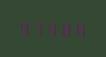eight: (60, 20, 73, 37), (74, 20, 87, 37)
nine: (46, 19, 59, 37), (18, 19, 31, 36)
seven: (32, 19, 45, 36)
